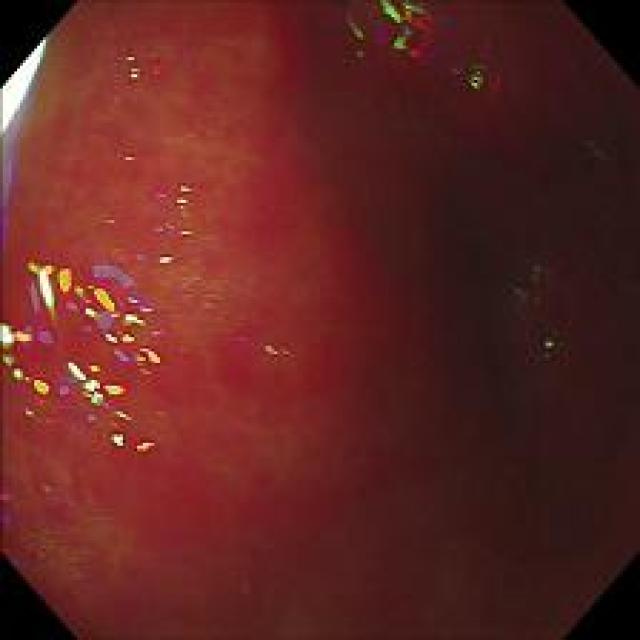blur: (2, 2, 636, 638)
color misalignment: (2, 254, 182, 464), (342, 0, 440, 64), (512, 255, 570, 354), (0, 480, 21, 574), (121, 44, 164, 79), (236, 329, 282, 360), (470, 65, 502, 106)
contrast: (314, 1, 632, 634)
saturation: (2, 40, 49, 140)
specularity: (162, 175, 194, 240), (65, 360, 98, 391), (38, 264, 55, 310), (109, 430, 125, 449), (1, 324, 11, 345)
